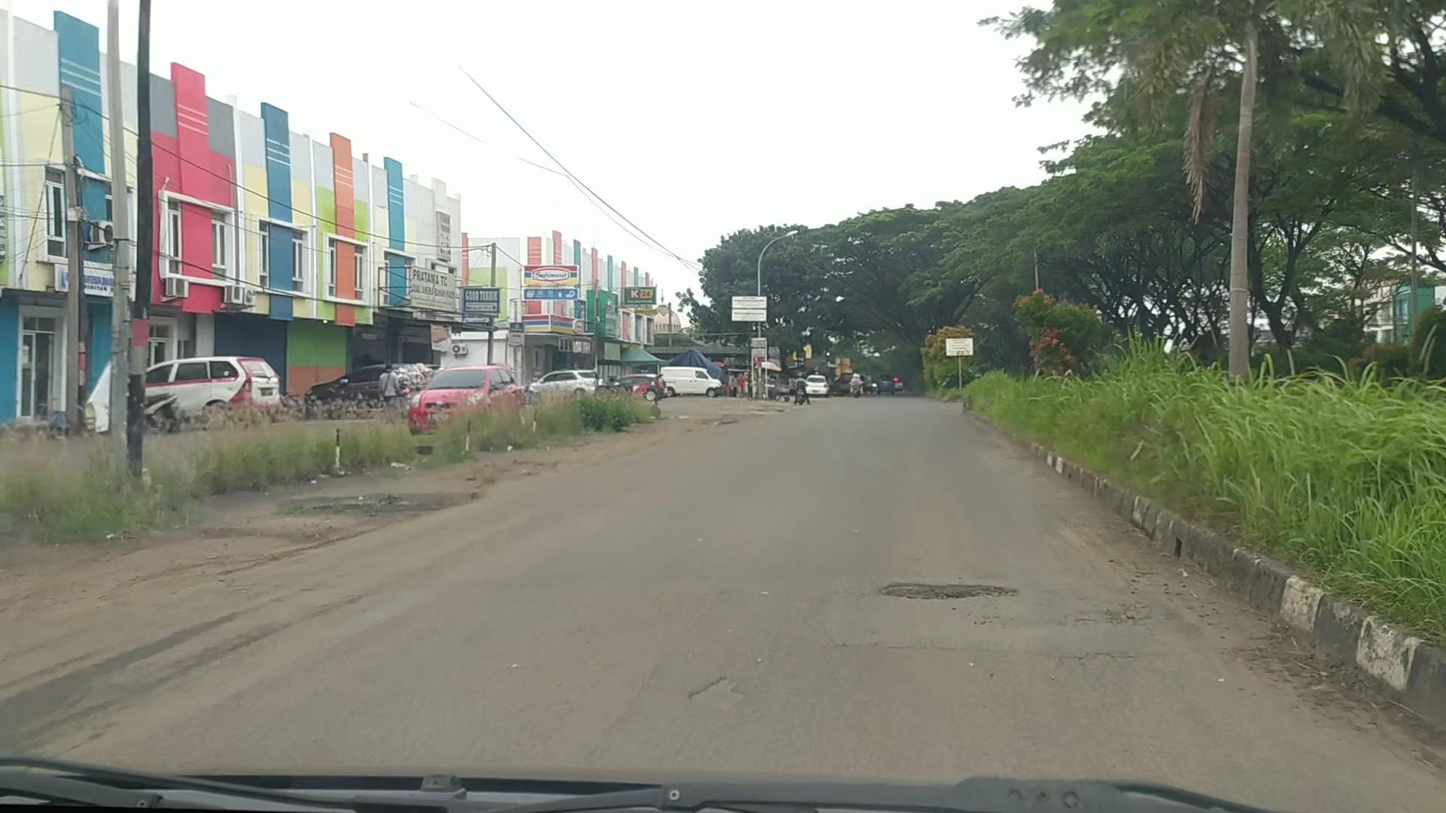pothole: (878, 583, 1008, 598)
